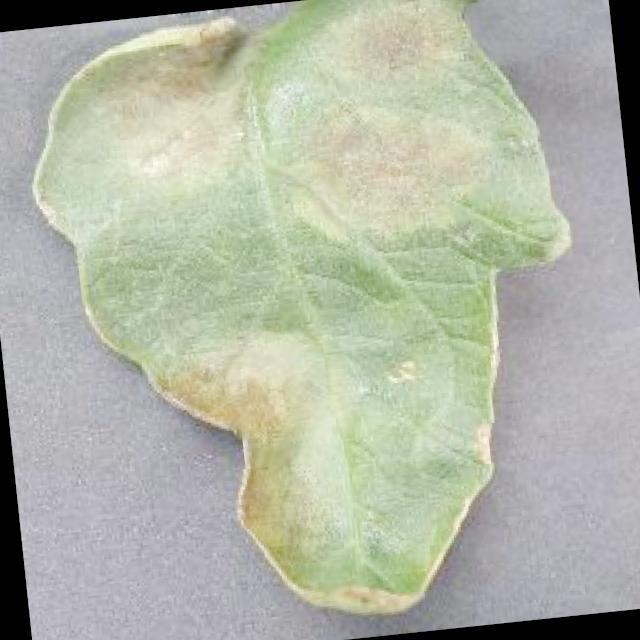Tomato late blight leaf: (13, 0, 611, 640)
